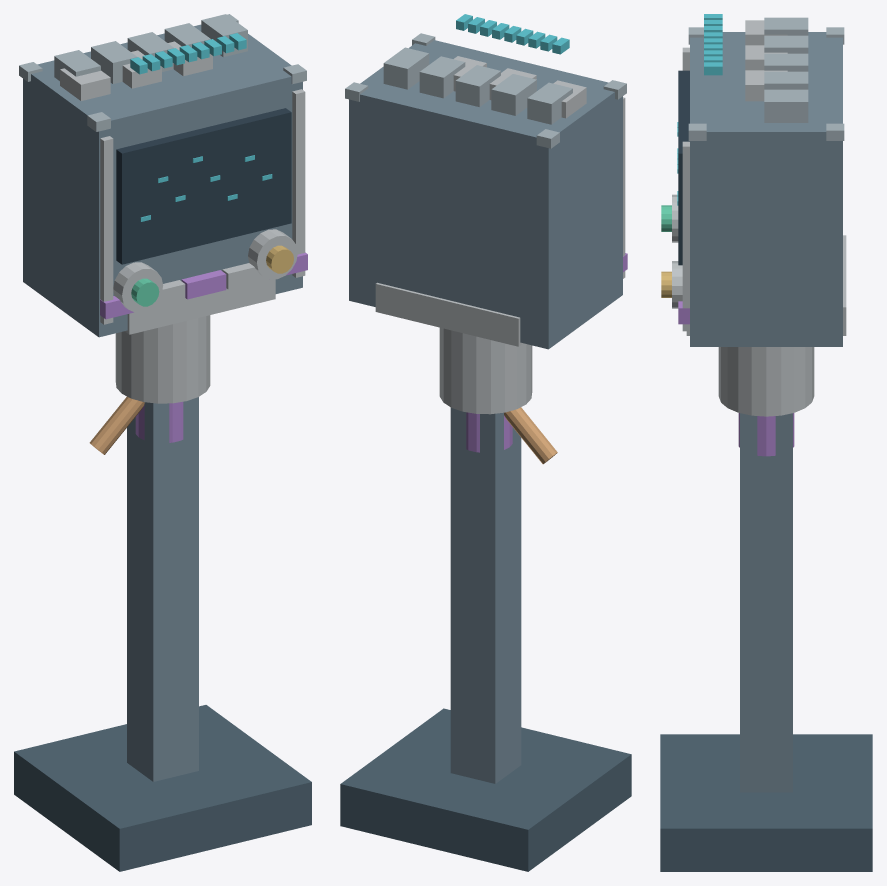
Rendered from 08_L74_ResistThicknessMeasurementSensor.glb.
3 views of the same model, side by side, from view 1: azimuth 30°, elevation 25°; view 2: azimuth 150°, elevation 25°; view 3: azimuth 270°, elevation 25° (orthographic). The views are drawn at different scales.
Parts seen in each view (by area): view 1: ResistThicknessMeasurementSensor_Node_0003, ResistThicknessMeasurementSensor_Node_0001, ResistThicknessMeasurementSensor_Node_0000, ResistThicknessMeasurementSensor_Node_0010, ResistThicknessMeasurementSensor_Node_0039, ResistThicknessMeasurementSensor_Node_0002, ResistThicknessMeasurementSensor_Node_0008, ResistThicknessMeasurementSensor_Node_0009, ResistThicknessMeasurementSensor_Node_0022, ResistThicknessMeasurementSensor_Node_0020, ResistThicknessMeasurementSensor_Node_0038, ResistThicknessMeasurementSensor_Node_0024 (+11 smaller); view 2: ResistThicknessMeasurementSensor_Node_0003, ResistThicknessMeasurementSensor_Node_0001, ResistThicknessMeasurementSensor_Node_0000, ResistThicknessMeasurementSensor_Node_0039, ResistThicknessMeasurementSensor_Node_0002, ResistThicknessMeasurementSensor_Node_0031, ResistThicknessMeasurementSensor_Node_0028, ResistThicknessMeasurementSensor_Node_0030, ResistThicknessMeasurementSensor_Node_0029, ResistThicknessMeasurementSensor_Node_0027, ResistThicknessMeasurementSensor_Node_0038, ResistThicknessMeasurementSensor_Node_0040 (+1 smaller); view 3: ResistThicknessMeasurementSensor_Node_0003, ResistThicknessMeasurementSensor_Node_0001, ResistThicknessMeasurementSensor_Node_0000, ResistThicknessMeasurementSensor_Node_0039, ResistThicknessMeasurementSensor_Node_0031, ResistThicknessMeasurementSensor_Node_0010, ResistThicknessMeasurementSensor_Node_0009, ResistThicknessMeasurementSensor_Node_0040, ResistThicknessMeasurementSensor_Node_0030, ResistThicknessMeasurementSensor_Node_0027, ResistThicknessMeasurementSensor_Node_0028, ResistThicknessMeasurementSensor_Node_0029 (+4 smaller).
Part boxes in pixels (box(x1,y1,x2,y2)): ResistThicknessMeasurementSensor_Node_0003: box(23, 24, 302, 337); ResistThicknessMeasurementSensor_Node_0001: box(14, 705, 311, 871); ResistThicknessMeasurementSensor_Node_0000: box(127, 397, 198, 781); ResistThicknessMeasurementSensor_Node_0010: box(116, 108, 291, 264); ResistThicknessMeasurementSensor_Node_0039: box(115, 315, 210, 403); ResistThicknessMeasurementSensor_Node_0002: box(125, 279, 275, 334); ResistThicknessMeasurementSensor_Node_0008: box(100, 136, 113, 324); ResistThicknessMeasurementSensor_Node_0009: box(292, 89, 305, 277); ResistThicknessMeasurementSensor_Node_0022: box(248, 229, 297, 279); ResistThicknessMeasurementSensor_Node_0020: box(113, 262, 163, 312); ResistThicknessMeasurementSensor_Node_0038: box(89, 396, 144, 454); ResistThicknessMeasurementSensor_Node_0024: box(60, 68, 110, 100); ResistThicknessMeasurementSensor_Node_0003: box(349, 40, 622, 349); ResistThicknessMeasurementSensor_Node_0001: box(340, 708, 631, 871); ResistThicknessMeasurementSensor_Node_0000: box(450, 407, 521, 783); ResistThicknessMeasurementSensor_Node_0039: box(439, 327, 532, 414); ResistThicknessMeasurementSensor_Node_0002: box(375, 282, 522, 346); ResistThicknessMeasurementSensor_Node_0031: box(383, 47, 429, 89); ResistThicknessMeasurementSensor_Node_0028: box(491, 74, 536, 115); ResistThicknessMeasurementSensor_Node_0030: box(419, 56, 465, 98); ResistThicknessMeasurementSensor_Node_0029: box(455, 65, 500, 107); ResistThicknessMeasurementSensor_Node_0027: box(527, 82, 572, 124); ResistThicknessMeasurementSensor_Node_0038: box(504, 407, 557, 464); ResistThicknessMeasurementSensor_Node_0040: box(466, 412, 512, 452); ResistThicknessMeasurementSensor_Node_0003: box(690, 32, 842, 346); ResistThicknessMeasurementSensor_Node_0001: box(660, 734, 872, 871); ResistThicknessMeasurementSensor_Node_0000: box(740, 413, 792, 792); ResistThicknessMeasurementSensor_Node_0039: box(718, 347, 814, 416); ResistThicknessMeasurementSensor_Node_0031: box(764, 89, 808, 122); ResistThicknessMeasurementSensor_Node_0010: box(678, 70, 689, 265); ResistThicknessMeasurementSensor_Node_0009: box(682, 141, 689, 331); ResistThicknessMeasurementSensor_Node_0040: box(738, 413, 794, 456); ResistThicknessMeasurementSensor_Node_0030: box(764, 71, 808, 89); ResistThicknessMeasurementSensor_Node_0027: box(764, 17, 808, 35); ResistThicknessMeasurementSensor_Node_0028: box(764, 35, 808, 53); ResistThicknessMeasurementSensor_Node_0029: box(764, 53, 808, 71).
Bounding box in the file's own units: 0.4605 × 1.63 × 0.4.
